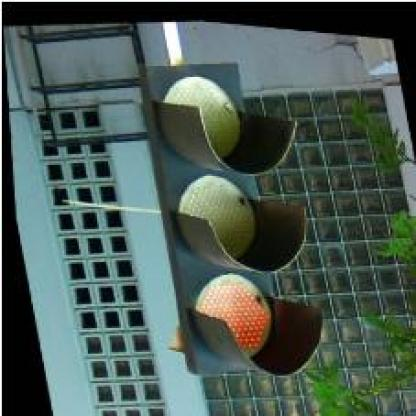red: (128, 41, 335, 384)
